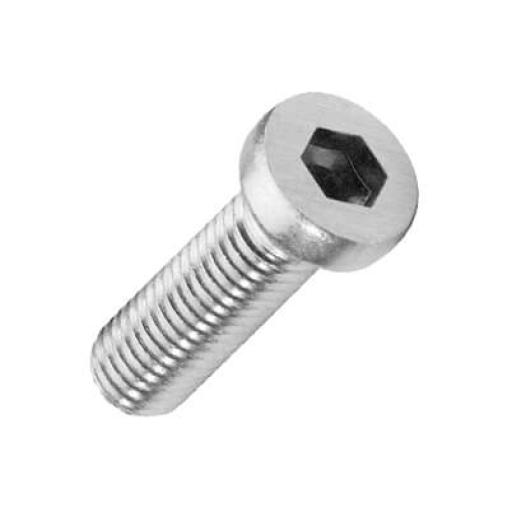Hex-Allen: (236, 86, 419, 267)
